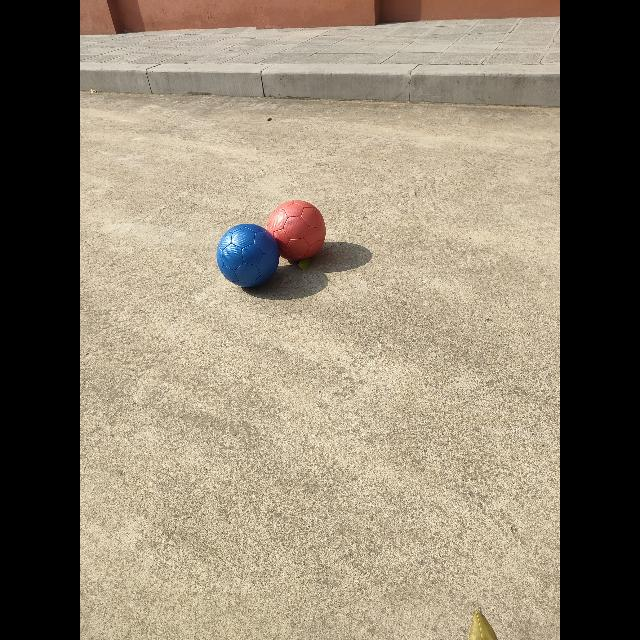B: (216, 224, 280, 288)
R: (266, 200, 325, 260)
